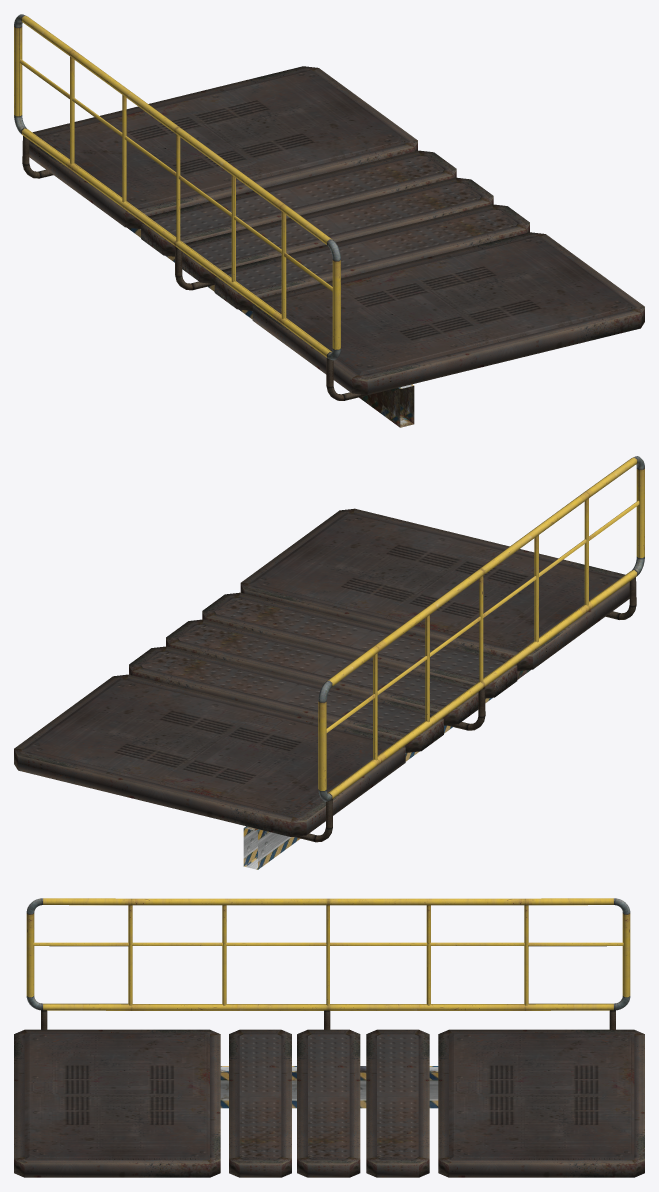
File: FLO_Walkway_Straight_5m.FBX
The picture shows the model from 3 angles, top to bottom: view 1: azimuth 30°, elevation 25°; view 2: azimuth 150°, elevation 25°; view 3: azimuth 270°, elevation 25°; orthographic projection. The views are drawn at different scales.
Visible parts, largest first — view 1: FLO_Walkway_Straight_5m_Plates, FLO_Walkway_Straight_5m_Banister; view 2: FLO_Walkway_Straight_5m_Plates, FLO_Walkway_Straight_5m_Banister; view 3: FLO_Walkway_Straight_5m_Plates, FLO_Walkway_Straight_5m_Banister.
Boxes of the visible parts, x1,y1,x2,y2 form: FLO_Walkway_Straight_5m_Plates: [29, 66, 644, 427]; FLO_Walkway_Straight_5m_Banister: [14, 14, 384, 400]; FLO_Walkway_Straight_5m_Plates: [14, 508, 629, 869]; FLO_Walkway_Straight_5m_Banister: [294, 456, 644, 842]; FLO_Walkway_Straight_5m_Plates: [14, 1029, 644, 1177]; FLO_Walkway_Straight_5m_Banister: [26, 898, 630, 1029].
Size of the model in its own units: 263 by 156 by 499.
2 materials, 2 textured.
